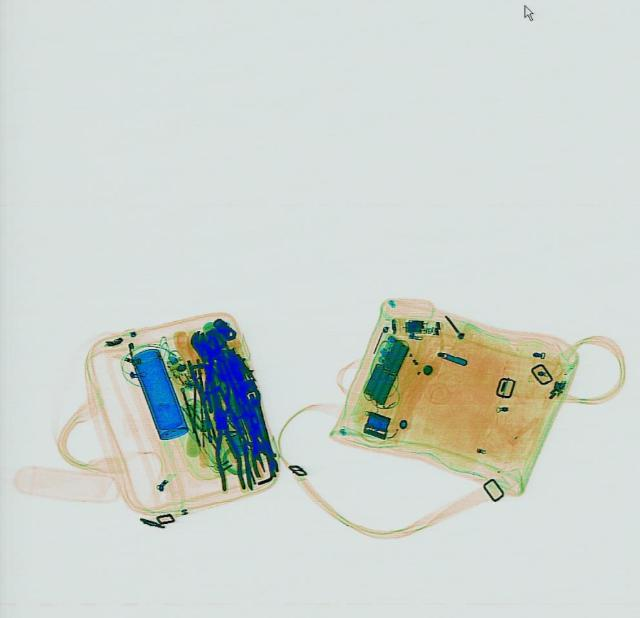Pliers: (202, 387, 246, 490), (181, 354, 211, 400)
